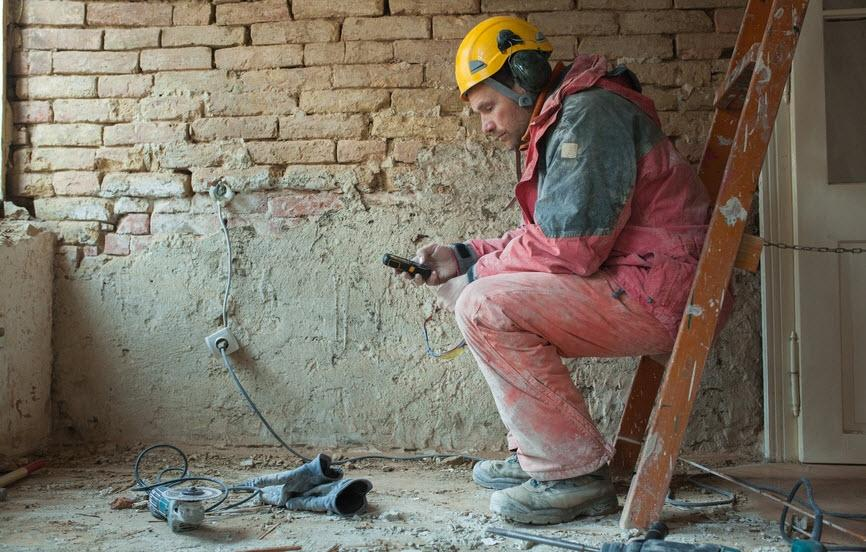helmet: (452, 14, 557, 99)
no_wear: (531, 99, 715, 324), (332, 478, 371, 511)
